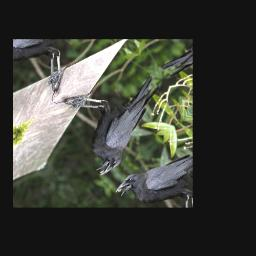Crow: (48, 51, 184, 179)
